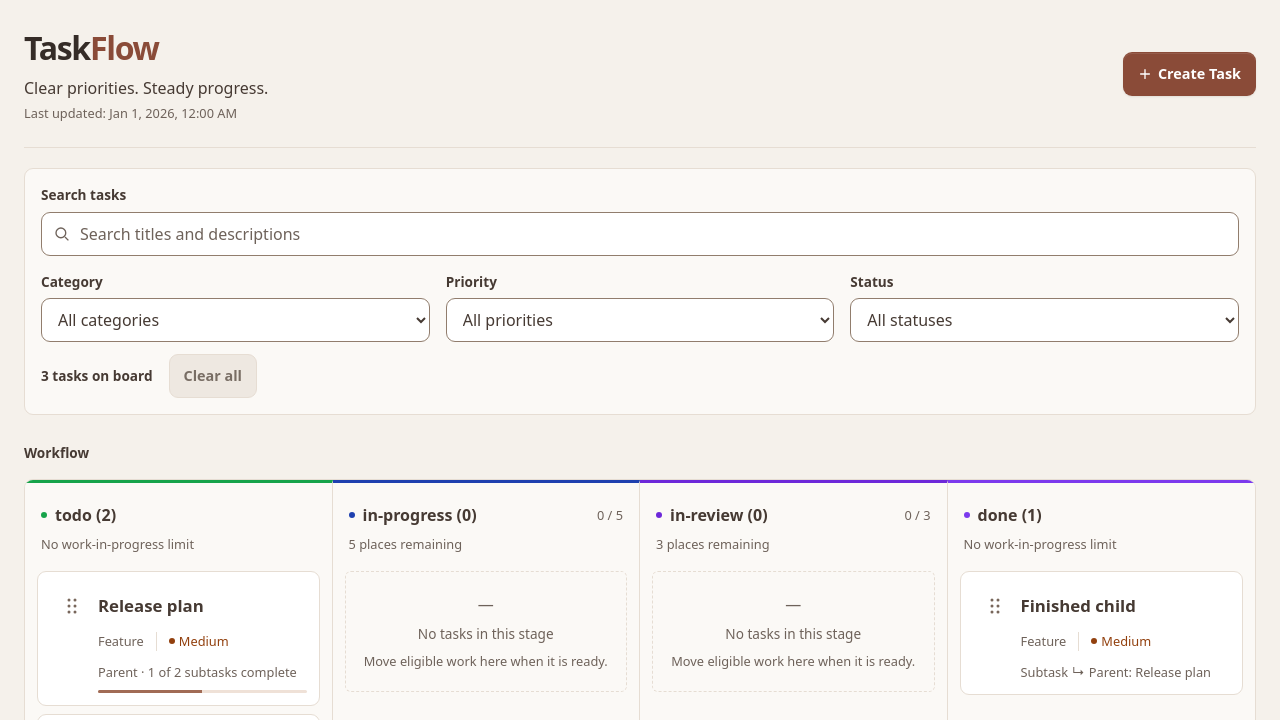
Test: keeps details read-only, marks only completed children and groups editor controls/actions
Click the button with aria-label "Open task Release plan": click(202, 606) [98,584,306,628]
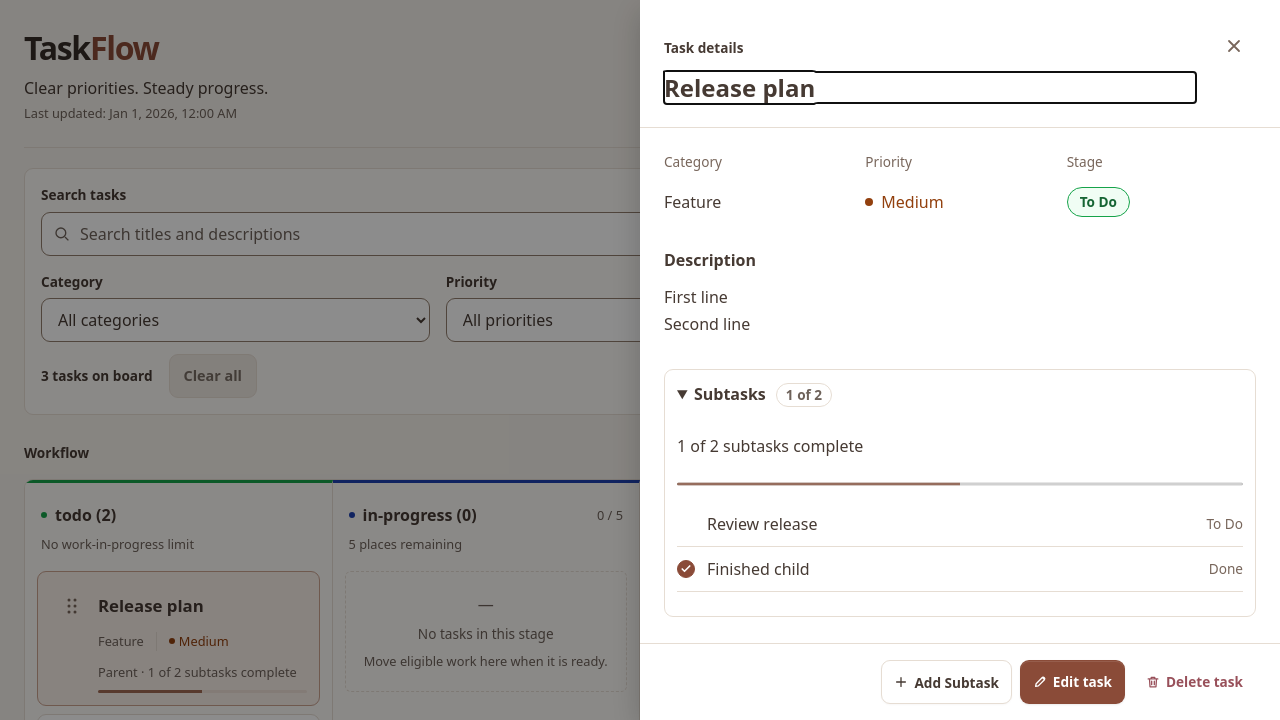
Now the number of pictures named "Completed subtask" is 1, box [677,560,695,578]
Click the button "Edit task": click(1072, 682) [1020,660,1125,704]
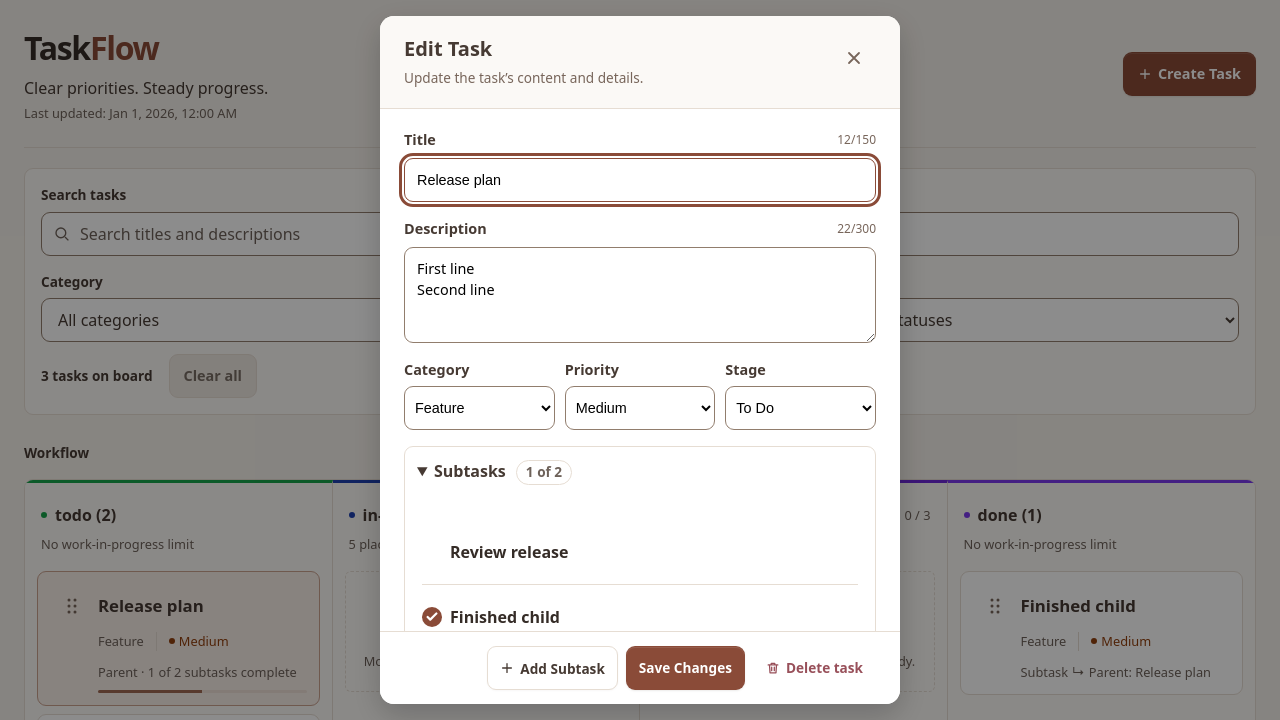
Now the buttons read "Add Subtask", "Save Changes", "Delete task", in this order, box [487,646,618,690]; [626,646,745,690]; [753,646,876,690]
